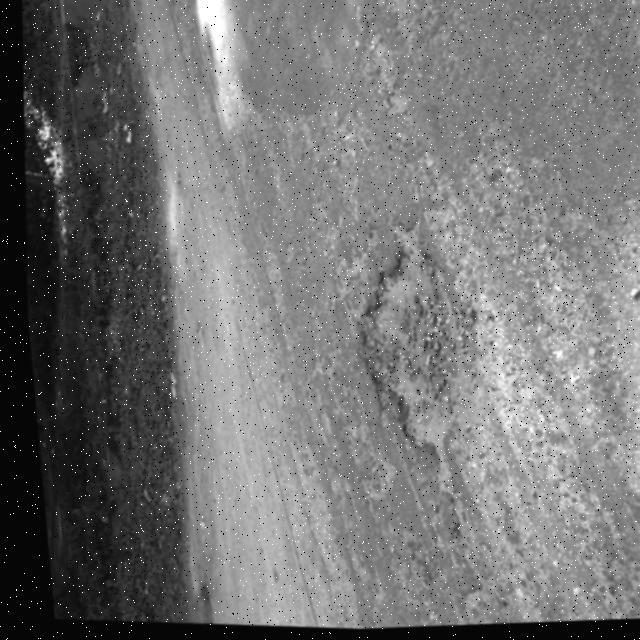pothole: (323, 222, 483, 520)
